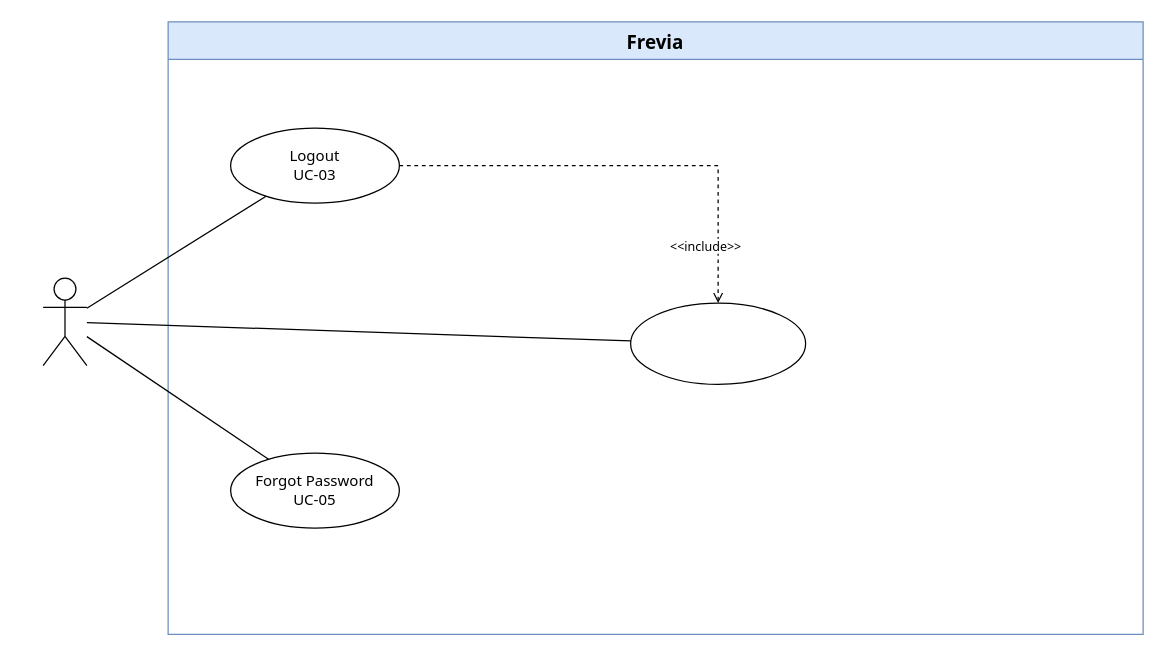
Some shapes in this 1165 by 656 pixel diagram are drawn without their labels. The centre of each missing label's shape, as x and y in pixels:
"Freelancer" goes at pixel 64 321.
"Login UC-02" goes at pixel 717 343.
